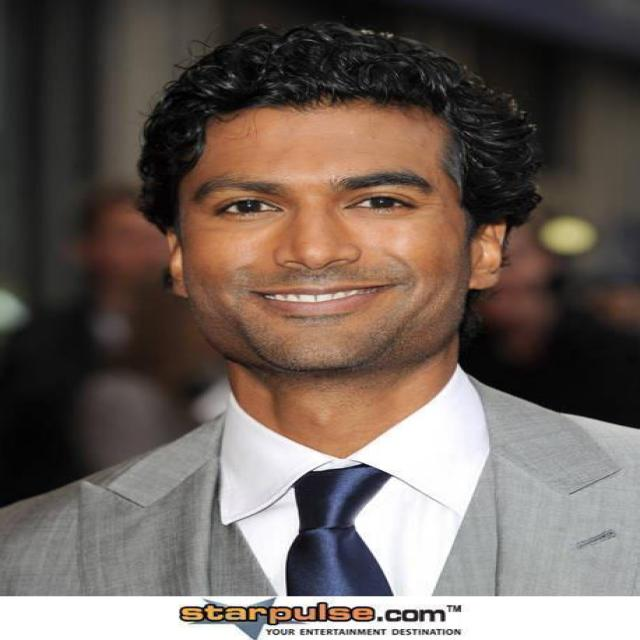0_rostro_limpio: (152, 64, 516, 382)
